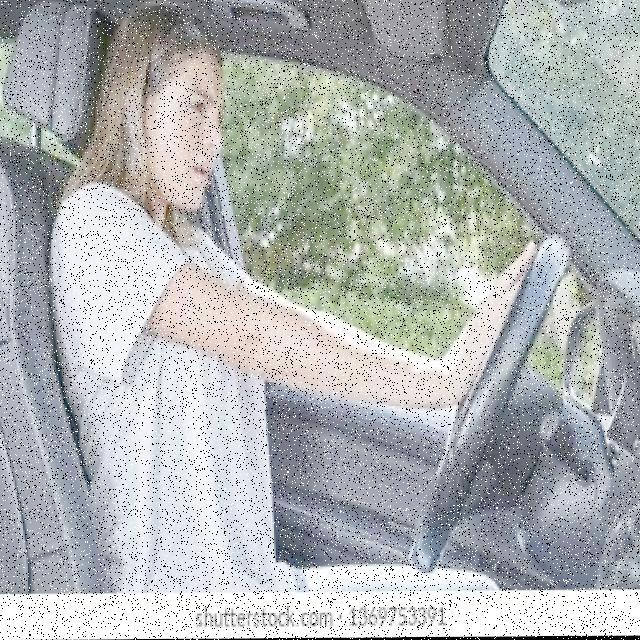noSeatbelt: (50, 148, 288, 570)
